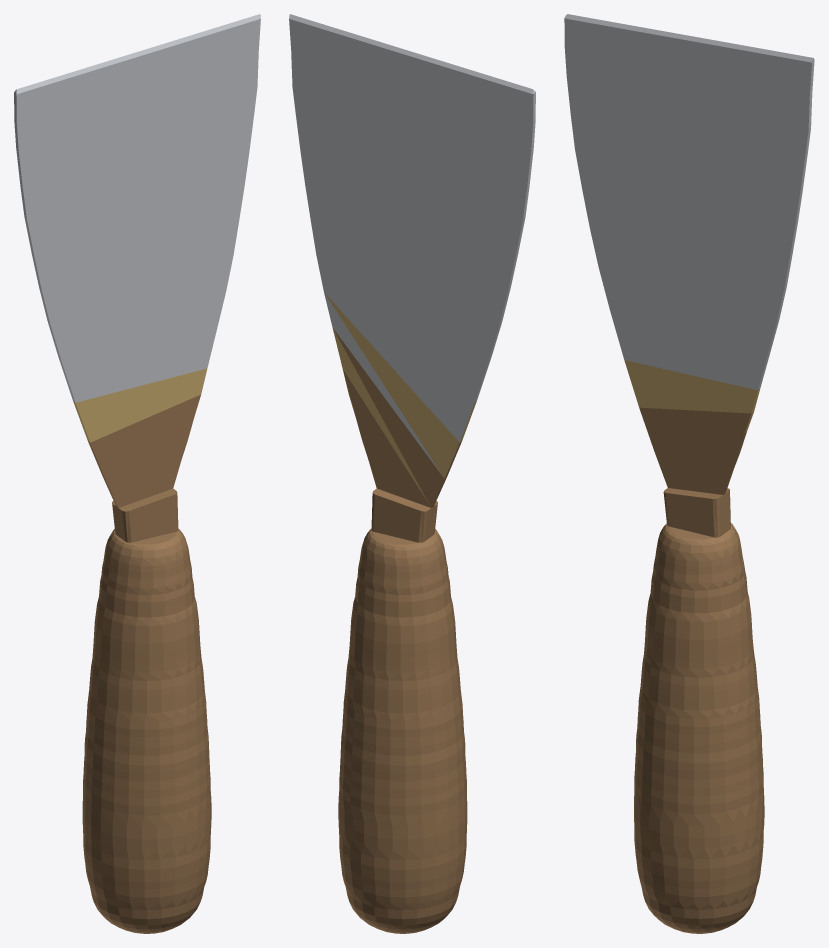
Rendered from Tool_Scraper.fbx.
3 renders of one model, left to right at view 1: azimuth 30°, elevation 25°; view 2: azimuth 150°, elevation 25°; view 3: azimuth 330°, elevation 25°, orthographic.
Visible parts, largest first — view 1: Tool_Scraper; view 2: Tool_Scraper; view 3: Tool_Scraper.
Part boxes in pixels (bbox=[...]): Tool_Scraper: bbox=[14, 14, 260, 933]; Tool_Scraper: bbox=[289, 14, 535, 933]; Tool_Scraper: bbox=[564, 14, 814, 933].
Bounding box in the file's own units: 6.93 × 24 × 3.15.
